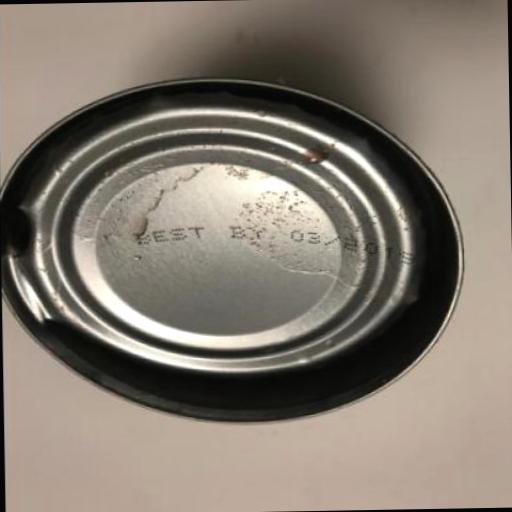metal: (0, 73, 466, 433)
